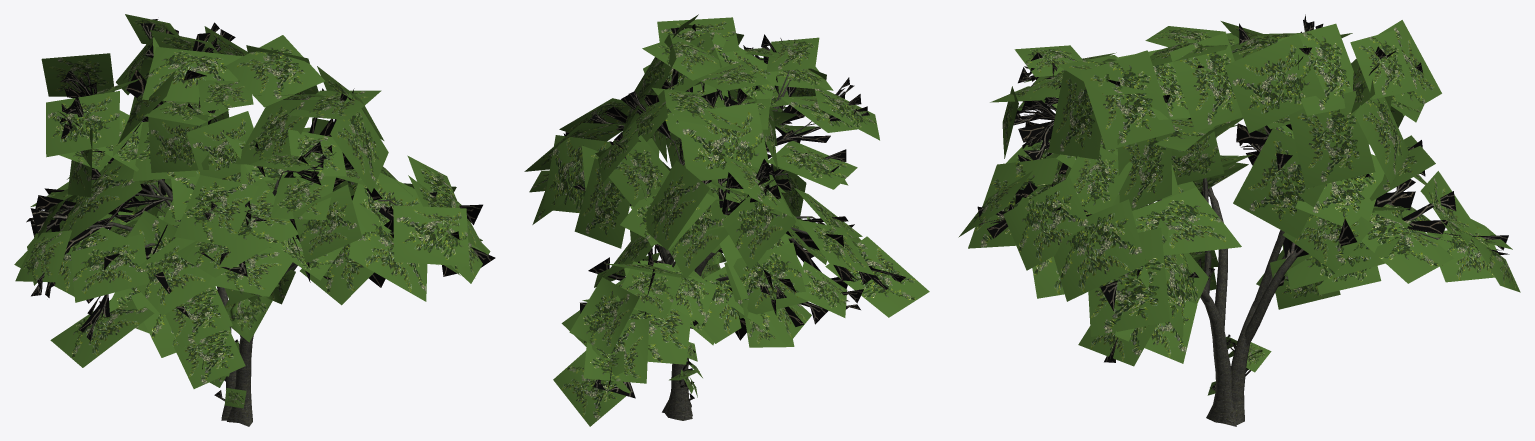
Rendered from tree_elm_01.DAE.
The picture shows the model from 3 angles, left to right: view 1: azimuth 30°, elevation 25°; view 2: azimuth 150°, elevation 25°; view 3: azimuth 270°, elevation 25°; orthographic projection. The views are drawn at different scales.
Visible parts, largest first — view 1: frond01, frond002, branch, SOMA_elm_01_AmericanElmBark, branch22, frond; view 2: frond01, frond002, branch, branch22, SOMA_elm_01_AmericanElmBark; view 3: frond01, frond002, branch, SOMA_elm_01_AmericanElmBark, branch22.
Part boxes in pixels (x1,y1,x2,y2): frond01: (14, 14, 490, 408); frond002: (15, 14, 488, 407); branch: (26, 19, 495, 400); SOMA_elm_01_AmericanElmBark: (47, 50, 397, 426); branch22: (28, 20, 492, 399); frond: (225, 270, 295, 342); frond01: (524, 14, 929, 426); frond002: (530, 17, 926, 426); branch: (564, 24, 905, 400); branch22: (564, 25, 902, 399); SOMA_elm_01_AmericanElmBark: (612, 29, 862, 420); frond01: (958, 20, 1520, 395); frond002: (967, 21, 1519, 393); branch: (977, 14, 1508, 390); SOMA_elm_01_AmericanElmBark: (1018, 100, 1438, 426); branch22: (978, 19, 1507, 390).
Bounding box in the file's own units: 19.67 × 16.94 × 22.12.
